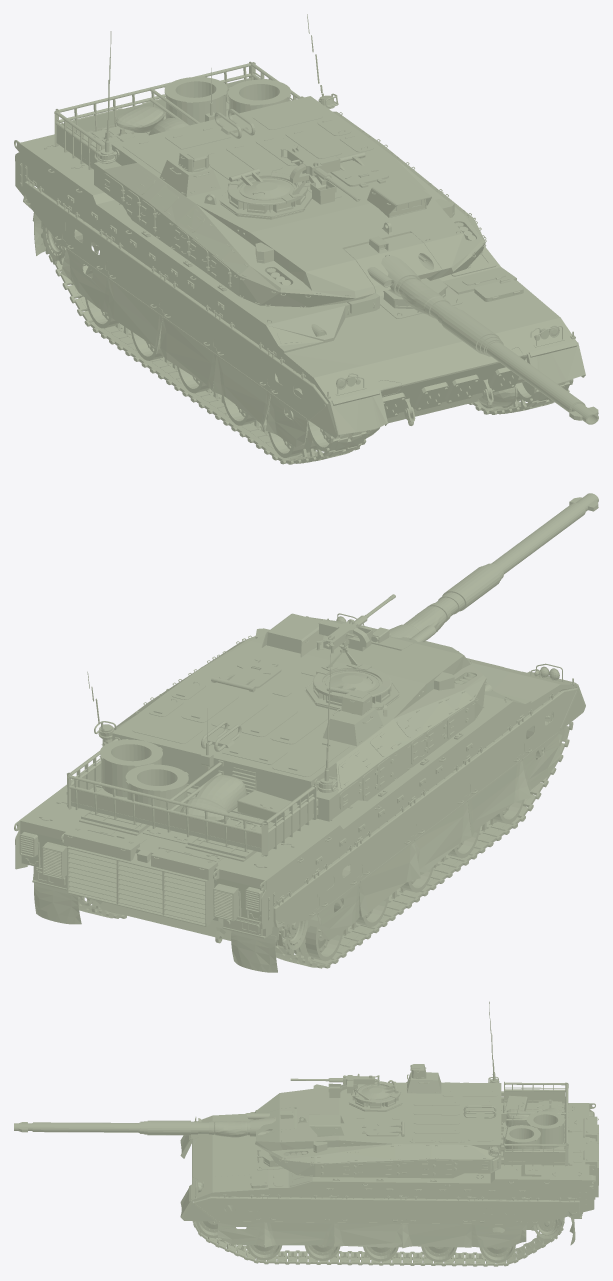
The model's file is type-10_main_battle_tank_repaired.glb.
3 views of the same model, one above another, from view 1: azimuth 30°, elevation 25°; view 2: azimuth 150°, elevation 25°; view 3: azimuth 270°, elevation 25° (orthographic). The views are drawn at different scales.
Parts seen in each view (by area): view 1: Turret, Hull, TrackGuards, DonorRunningGear, Gun; view 2: Turret, Hull, TrackGuards, DonorRunningGear, Gun; view 3: Turret, Hull, TrackGuards, DonorRunningGear, Gun.
Boxes of the visible parts, x1=… form: Turret: x1=54, y1=14, x2=486, y2=307; Hull: x1=19, y1=97, x2=585, y2=449; TrackGuards: x1=14, y1=140, x2=328, y2=447; DonorRunningGear: x1=41, y1=203, x2=573, y2=464; Gun: x1=344, y1=232, x2=598, y2=424; Turret: x1=67, y1=594, x2=487, y2=856; Hull: x1=19, y1=613, x2=585, y2=972; TrackGuards: x1=14, y1=688, x2=577, y2=939; DonorRunningGear: x1=78, y1=692, x2=573, y2=968; Gun: x1=359, y1=493, x2=598, y2=650; Turret: x1=253, y1=1001, x2=568, y2=1178; Hull: x1=180, y1=1102, x2=598, y2=1256; TrackGuards: x1=193, y1=1103, x2=595, y2=1248; DonorRunningGear: x1=192, y1=1196, x2=564, y2=1266; Gun: x1=14, y1=1107, x2=296, y2=1138.
Size of the model in its own units: 3.24 by 3.47 by 9.49.
